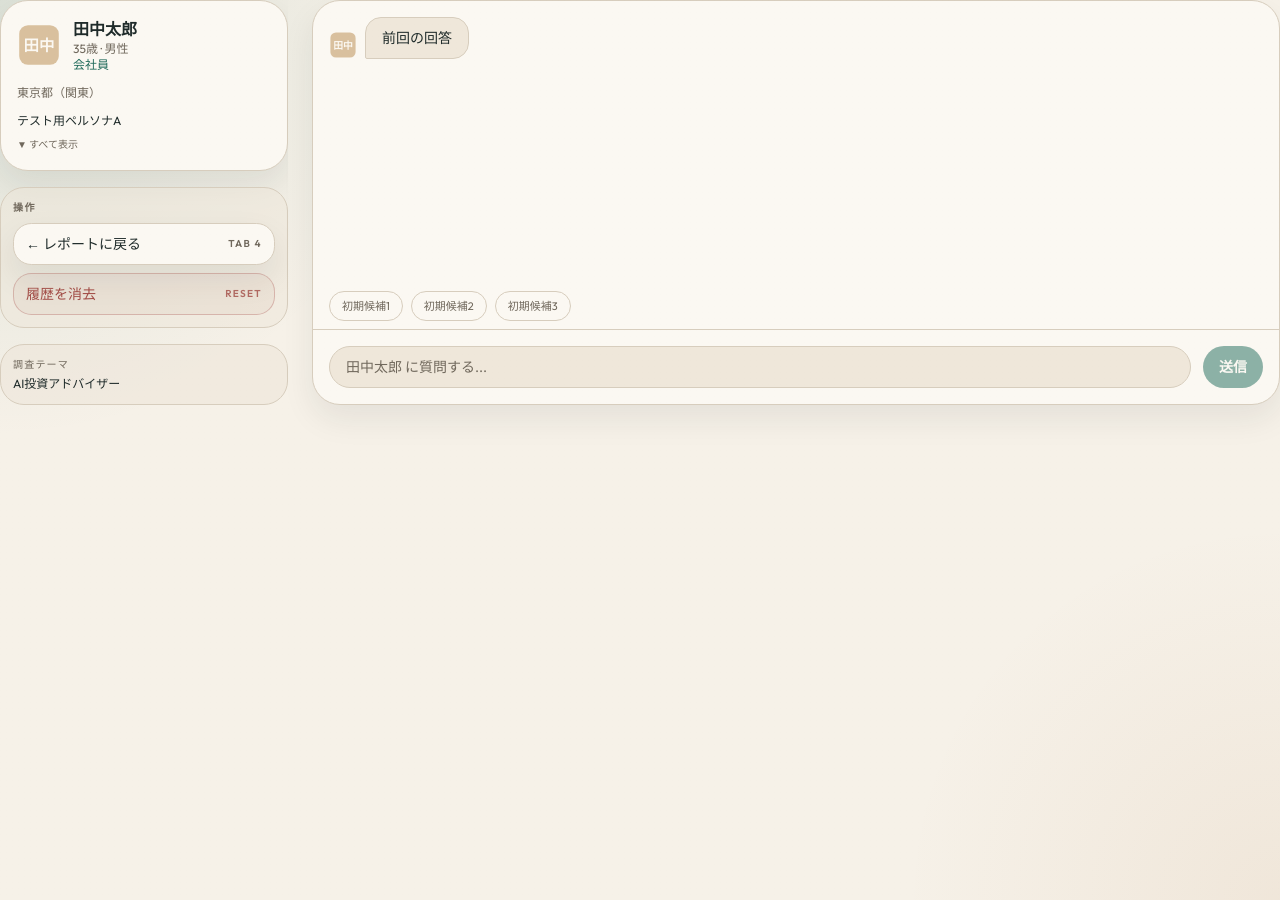
Test: FollowUpChat › shows trimmed fallback chips after the post-answer suggestion refresh fails
The image size is (1280, 900).
Click the button "初期候補1": click(366, 306) 329,290 -> 403,321
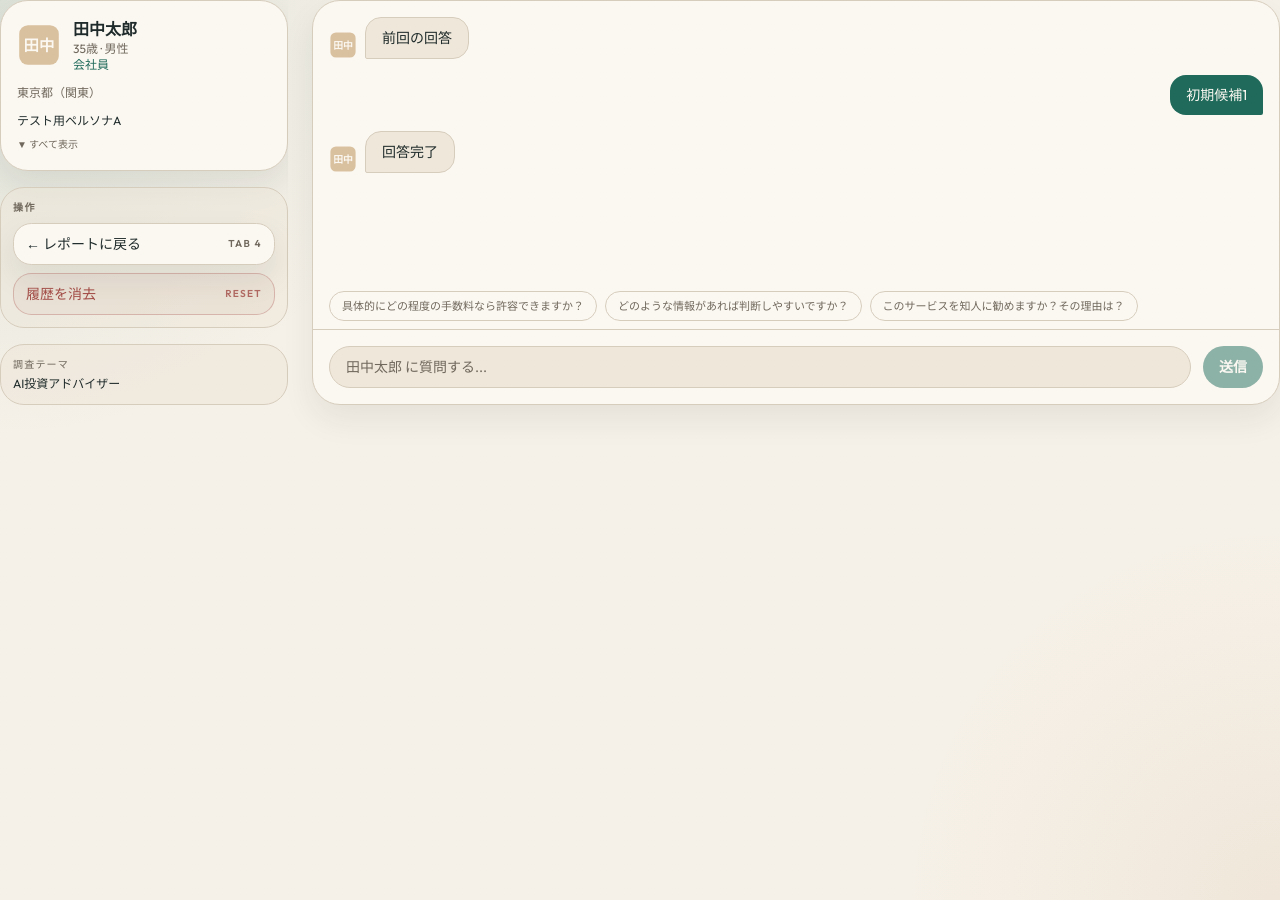
expect the button "具体的にどの程度の手数料なら許容できますか？" is shown: met, box 329,290 -> 597,321
expect the button "どのような情報があれば判断しやすいですか？" is shown: met, box 605,290 -> 862,321
expect the button "このサービスを知人に勧めますか？その理由は？" is shown: met, box 870,290 -> 1138,321
